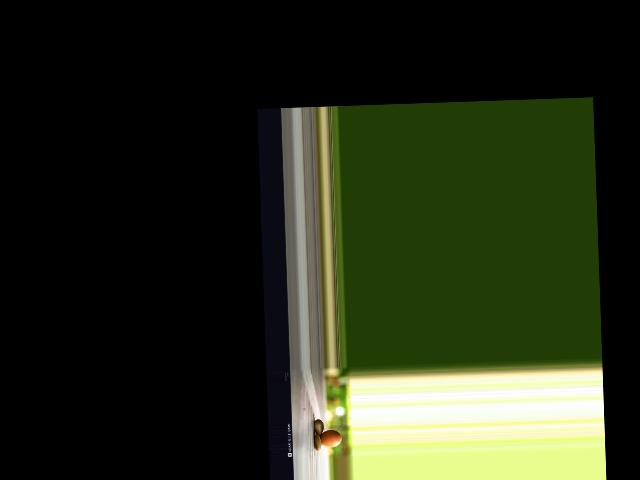egg: (319, 429, 341, 447)
